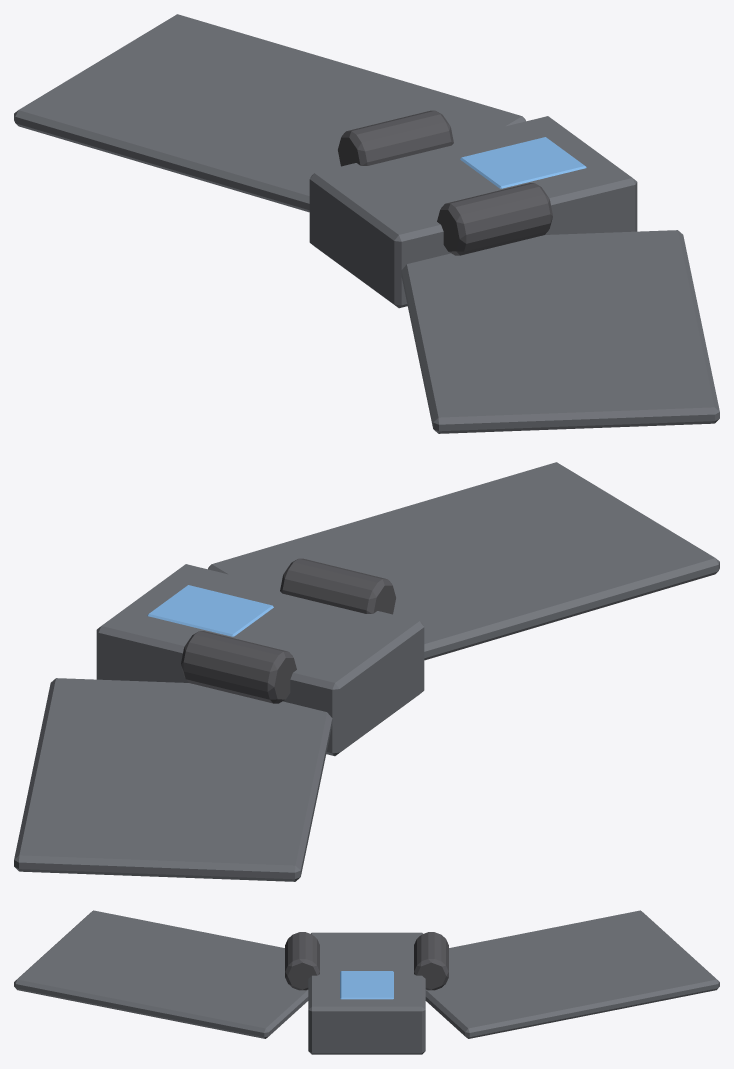
File: spectre.glb
The picture shows the model from 3 angles, top to bottom: view 1: azimuth 30°, elevation 25°; view 2: azimuth 150°, elevation 25°; view 3: azimuth 270°, elevation 25°; orthographic projection. The views are drawn at different scales.
Parts seen in each view (by area): view 1: coalition_spectre; view 2: coalition_spectre; view 3: coalition_spectre.
Boxes of the visible parts, x1,y1,x2,y2 form: coalition_spectre: [14, 14, 719, 433]; coalition_spectre: [14, 462, 719, 881]; coalition_spectre: [14, 910, 719, 1054].
Size of the model in its own units: 2.44 by 0.6035 by 6.03.
